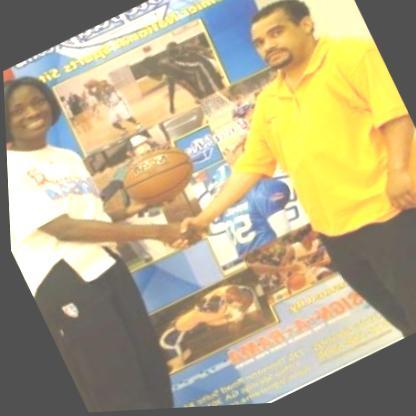basketball: (103, 131, 207, 225)
